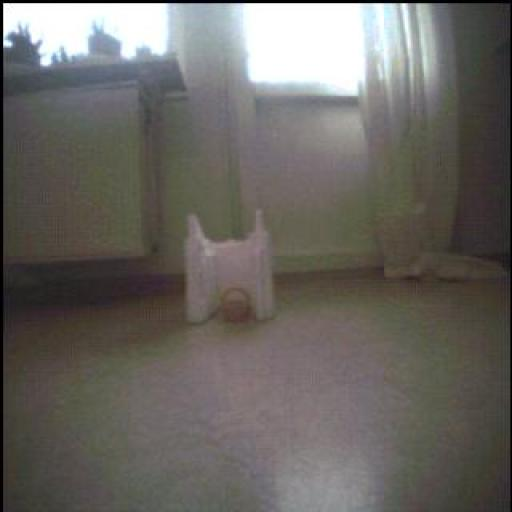Basket: (220, 289, 254, 324)
